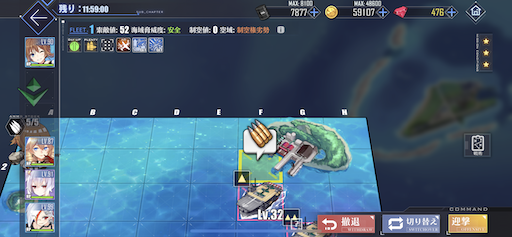lv1: (232, 170, 282, 220)
